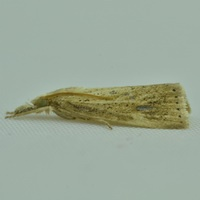insect: (6, 83, 189, 128)
